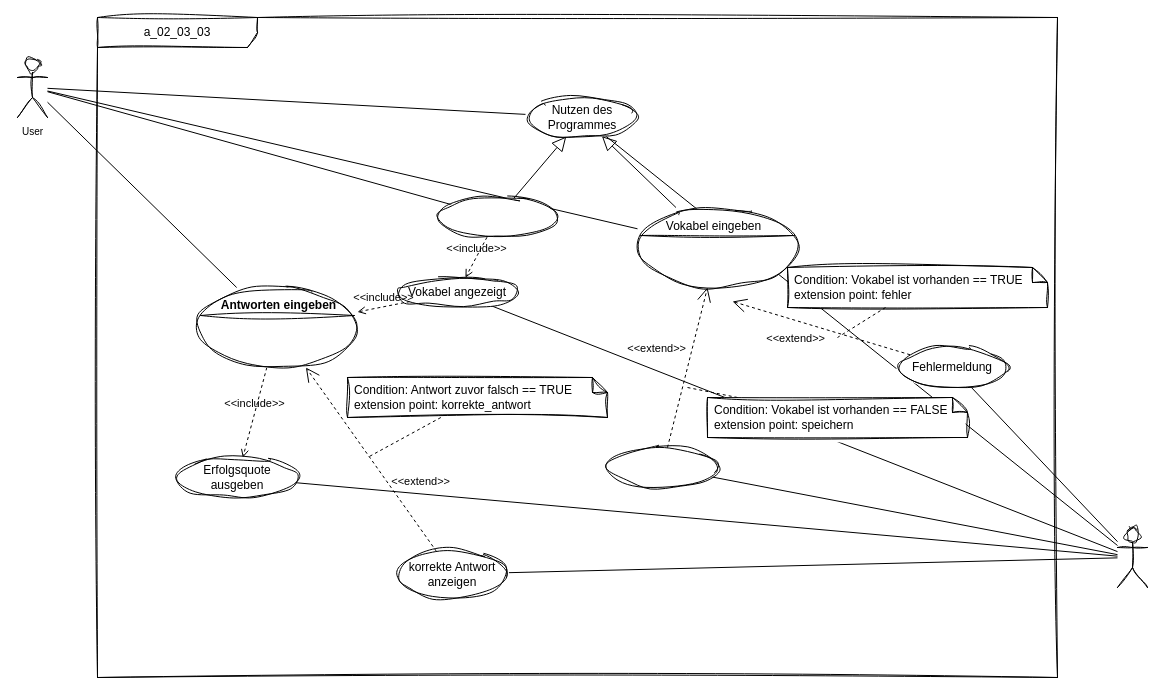
This 1173x695 diagram has some shape labels left out. The box of each missing label's shape, as (x1, y1, x2, y2) in pixels:
extension point: korrekte_antwort: (196, 286, 358, 368)
extension points: fehler, speichern: (636, 206, 798, 288)
Programm: (1116, 526, 1148, 588)
Vokabel speichern: (606, 446, 718, 488)
Vokabel trainieren: (436, 196, 558, 238)
